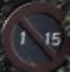No waiting: (2, 5, 63, 65)
